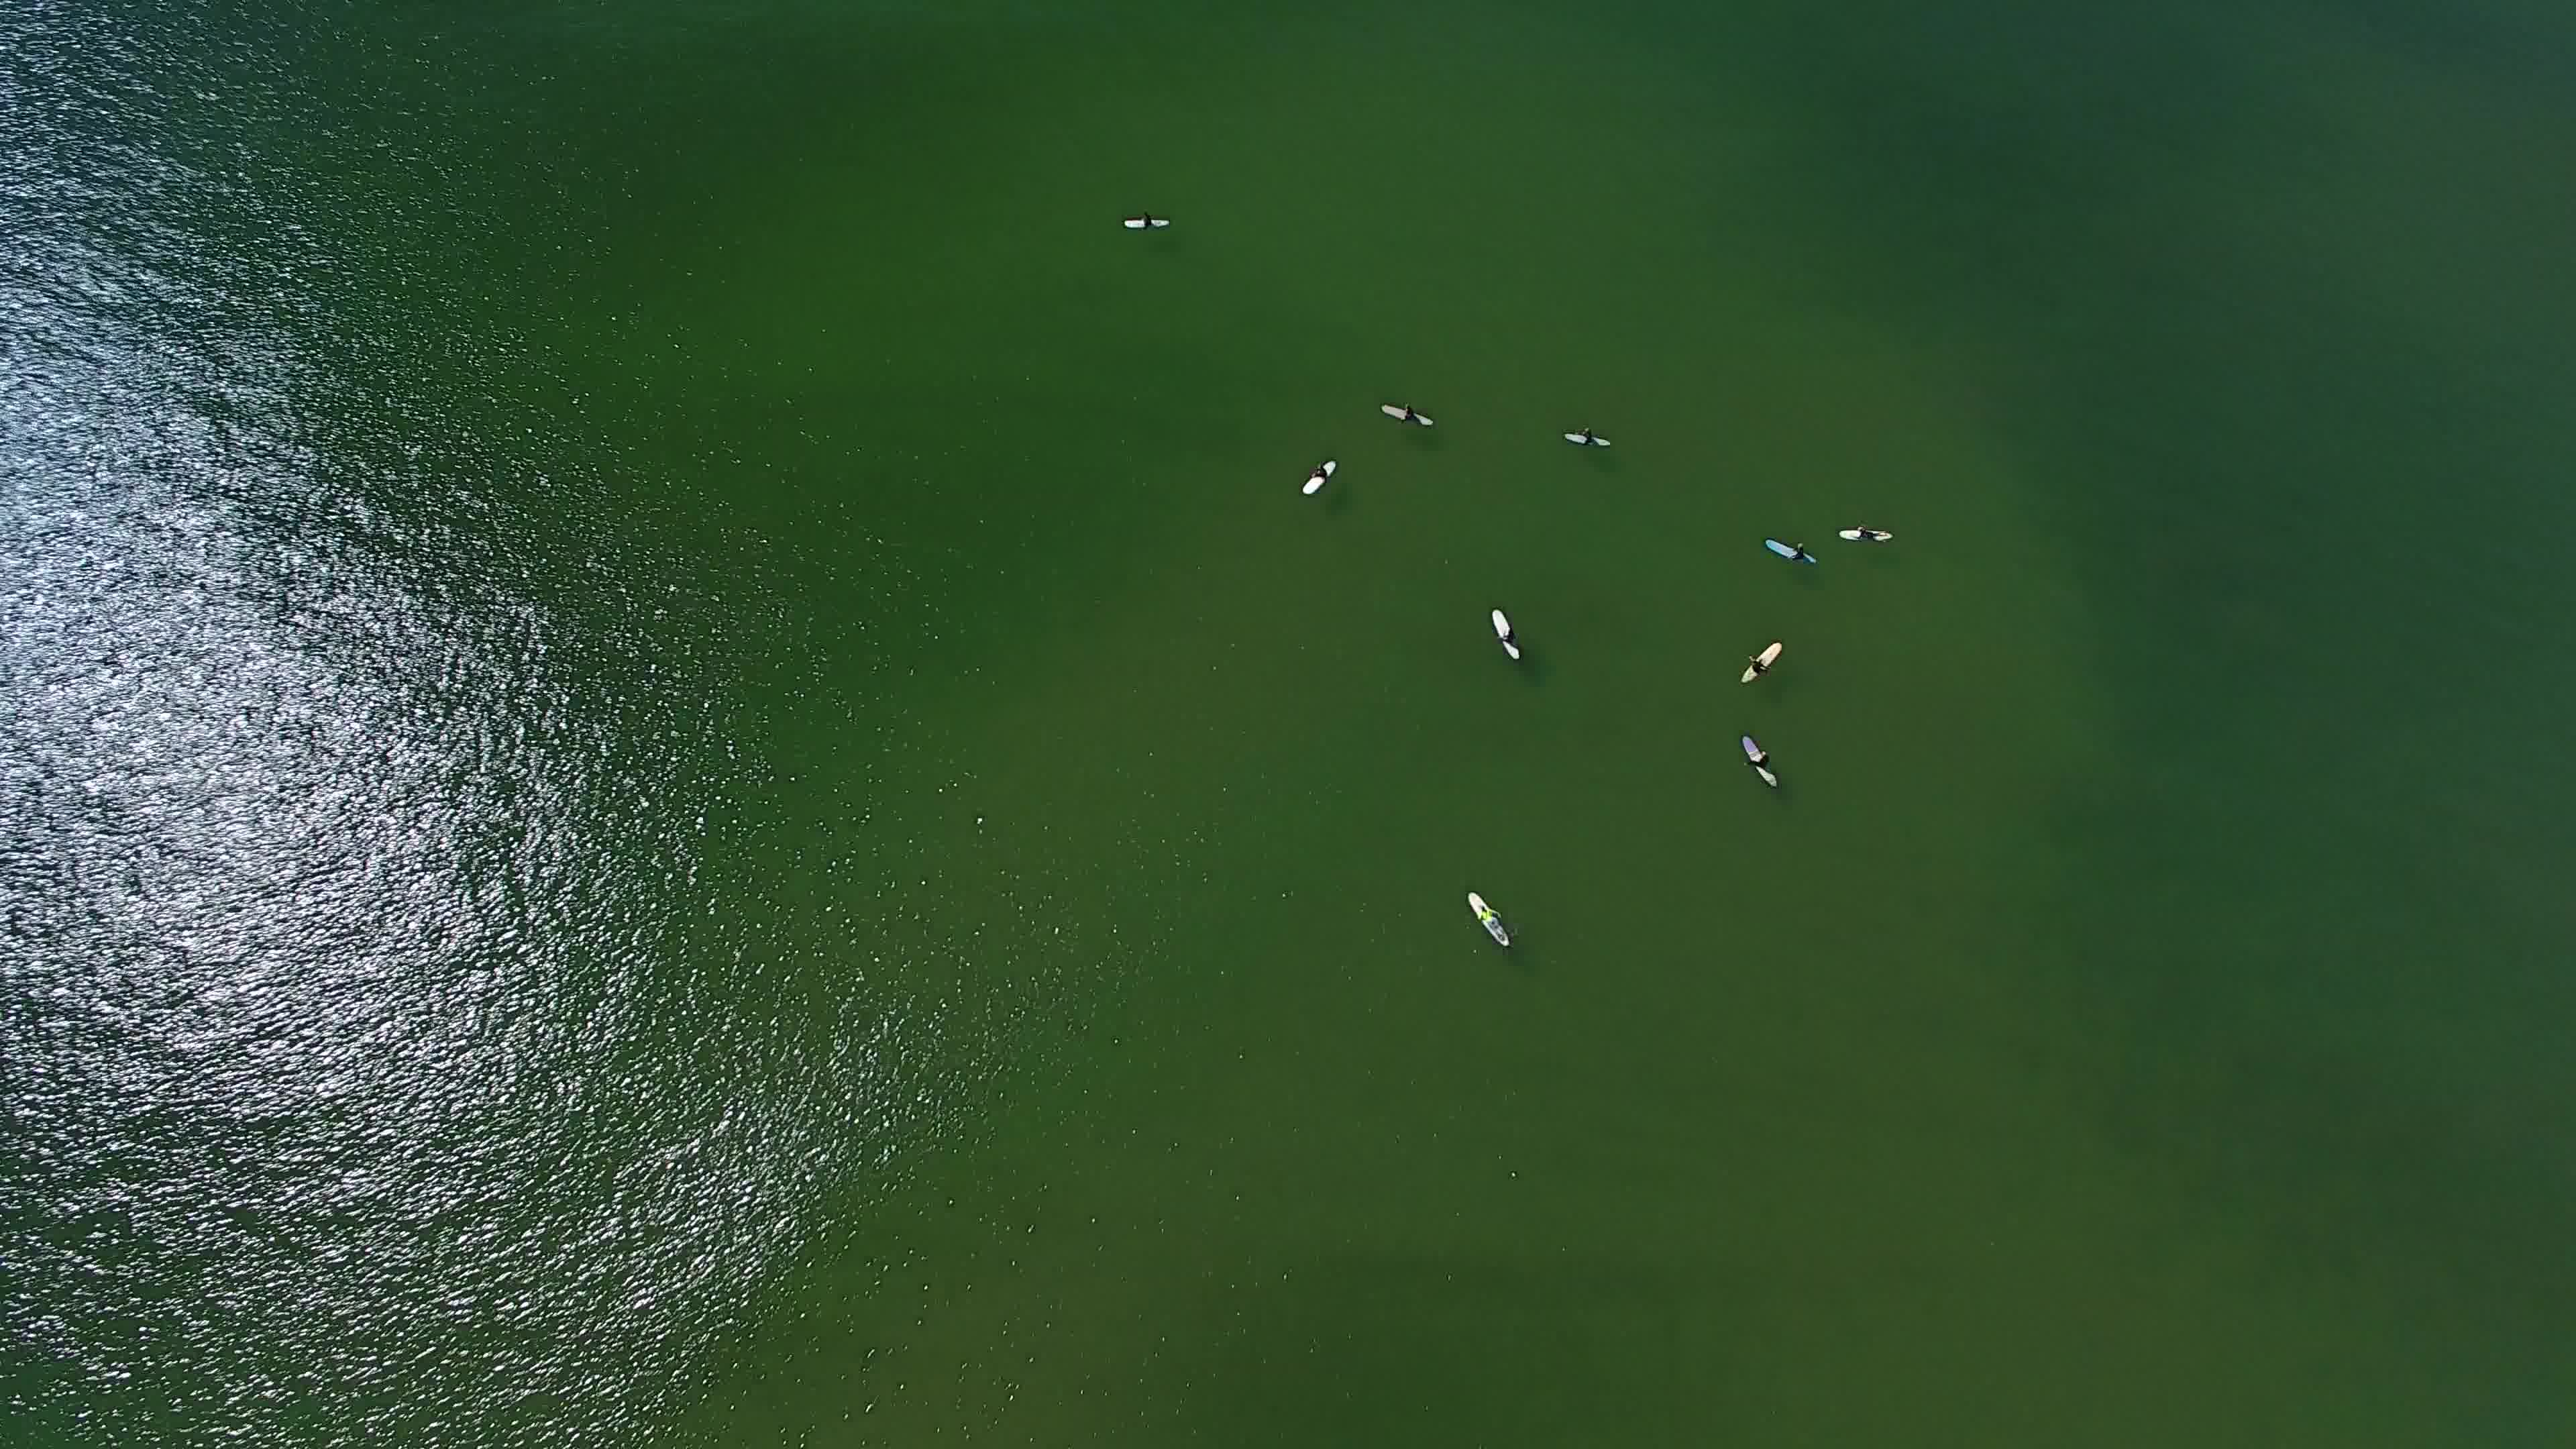surfer: (1458, 883, 1520, 957), (1723, 731, 1794, 793), (1755, 525, 1824, 577), (1483, 602, 1534, 663), (1375, 393, 1442, 433), (1739, 635, 1787, 690), (1836, 517, 1897, 550), (1560, 421, 1617, 456), (1300, 455, 1341, 501), (1116, 211, 1182, 239)
